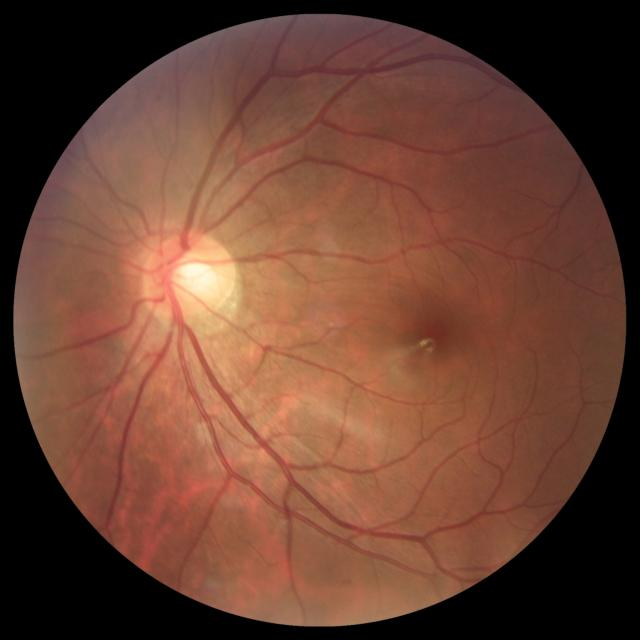OC: (171, 254, 216, 296)
OD: (139, 229, 237, 320)
